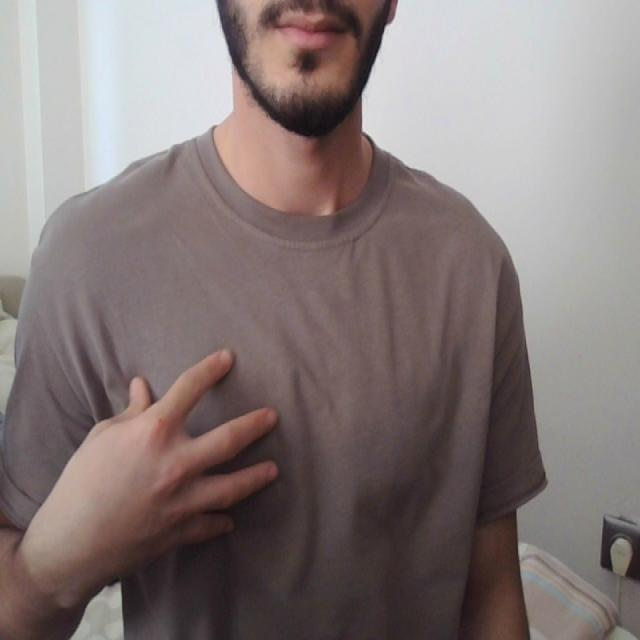Anne: (38, 338, 518, 589)
